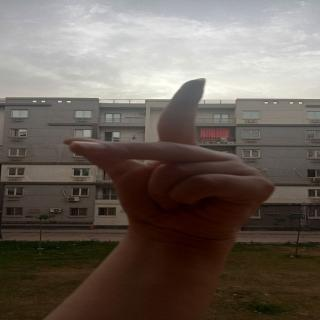DHAA: (66, 73, 320, 237)
